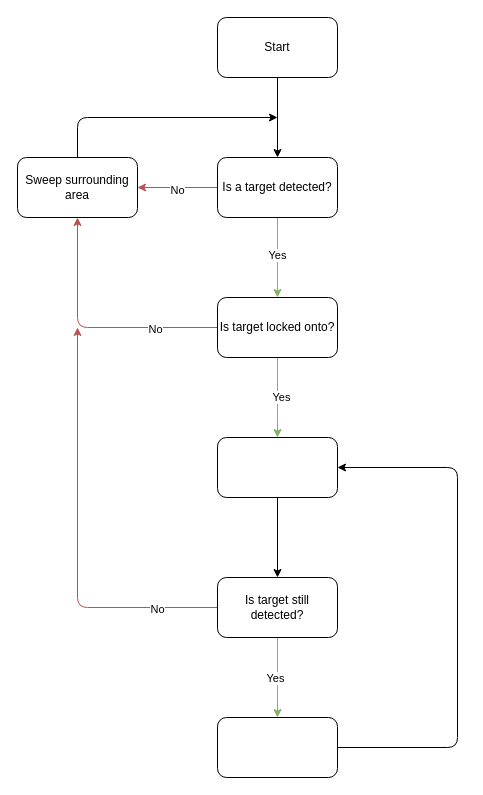
Image size: 483x795. Some labels were removed from this diagram. Each missing label, with the box of its shape:
Display target's relative position and veloctiy: (216, 436, 338, 498)
Follow target: (216, 716, 338, 778)
